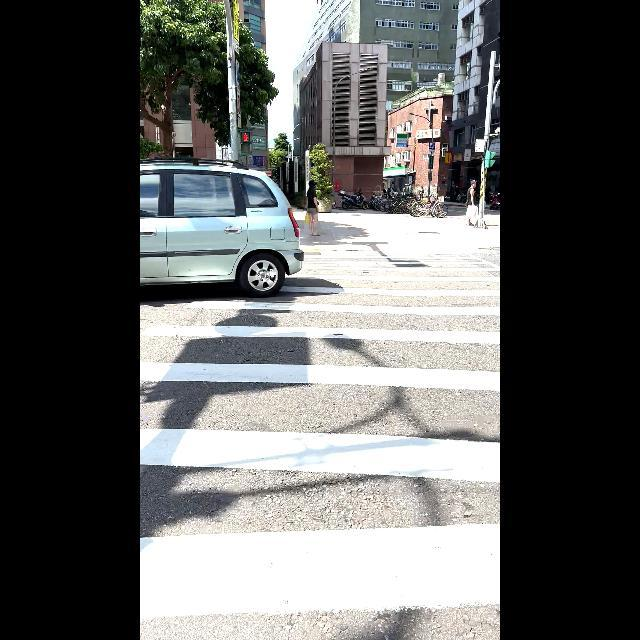sidewalk: (140, 239, 500, 640)
